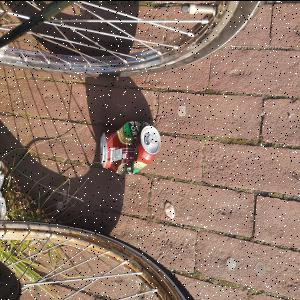Can: (100, 118, 164, 177)
